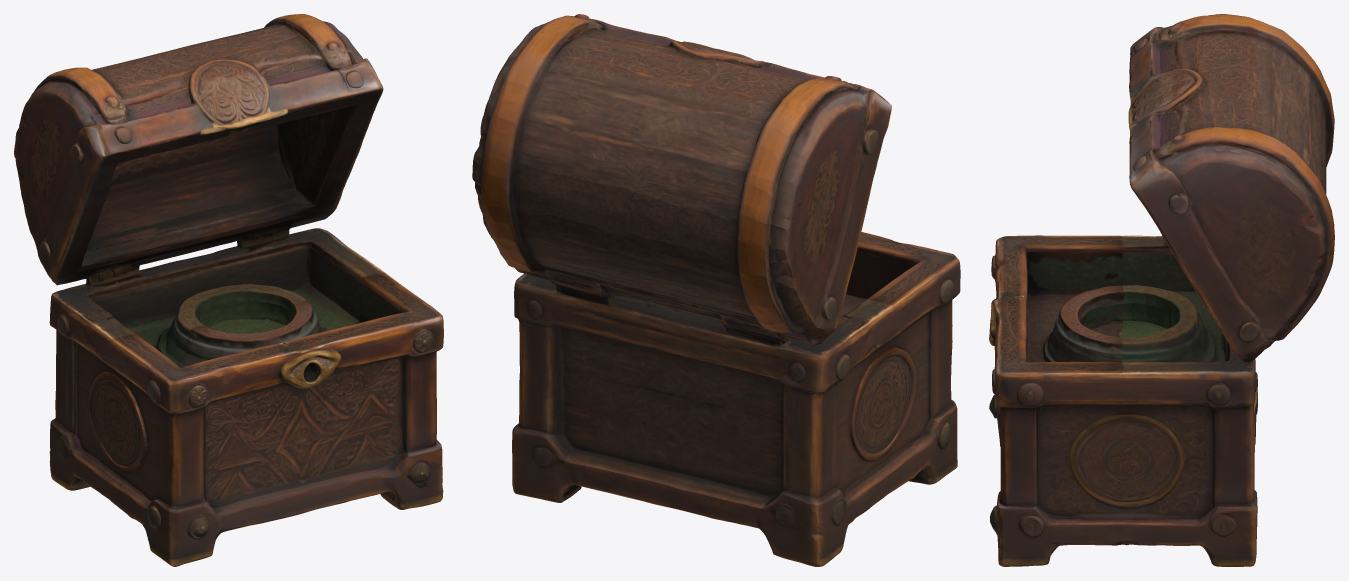
The model's file is Mystic_Relic_Chest_0613144533_texture.fbx.
3 renders of one model, left to right at view 1: azimuth 30°, elevation 25°; view 2: azimuth 150°, elevation 25°; view 3: azimuth 270°, elevation 25°, orthographic. The views are drawn at different scales.
Parts seen in each view (by area): view 1: temp; view 2: temp; view 3: temp.
Boxes of the visible parts, x1=… form: temp: x1=14, y1=14, x2=443, y2=566; temp: x1=472, y1=14, x2=960, y2=566; temp: x1=989, y1=14, x2=1334, y2=566.
Size of the model in its own units: 150 by 200 by 148.
Materials: 1 (1 with a texture image).
